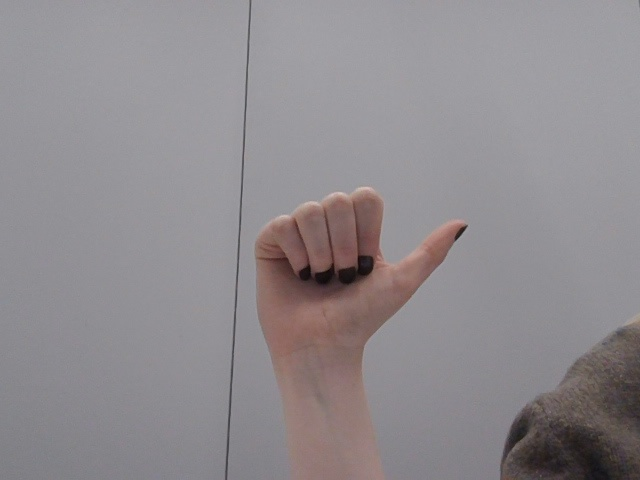left: (220, 175, 489, 374)
